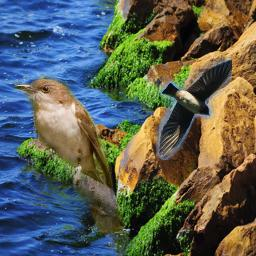Cuckoo: (12, 75, 124, 236)
Swallow: (156, 57, 232, 160)
